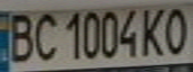0: (81, 3, 103, 61), (100, 3, 121, 60)
1: (60, 3, 84, 61)
4: (118, 3, 142, 57)
B: (3, 4, 39, 64)
C: (30, 5, 60, 62)
K: (136, 2, 172, 57)
O: (160, 2, 193, 56)
